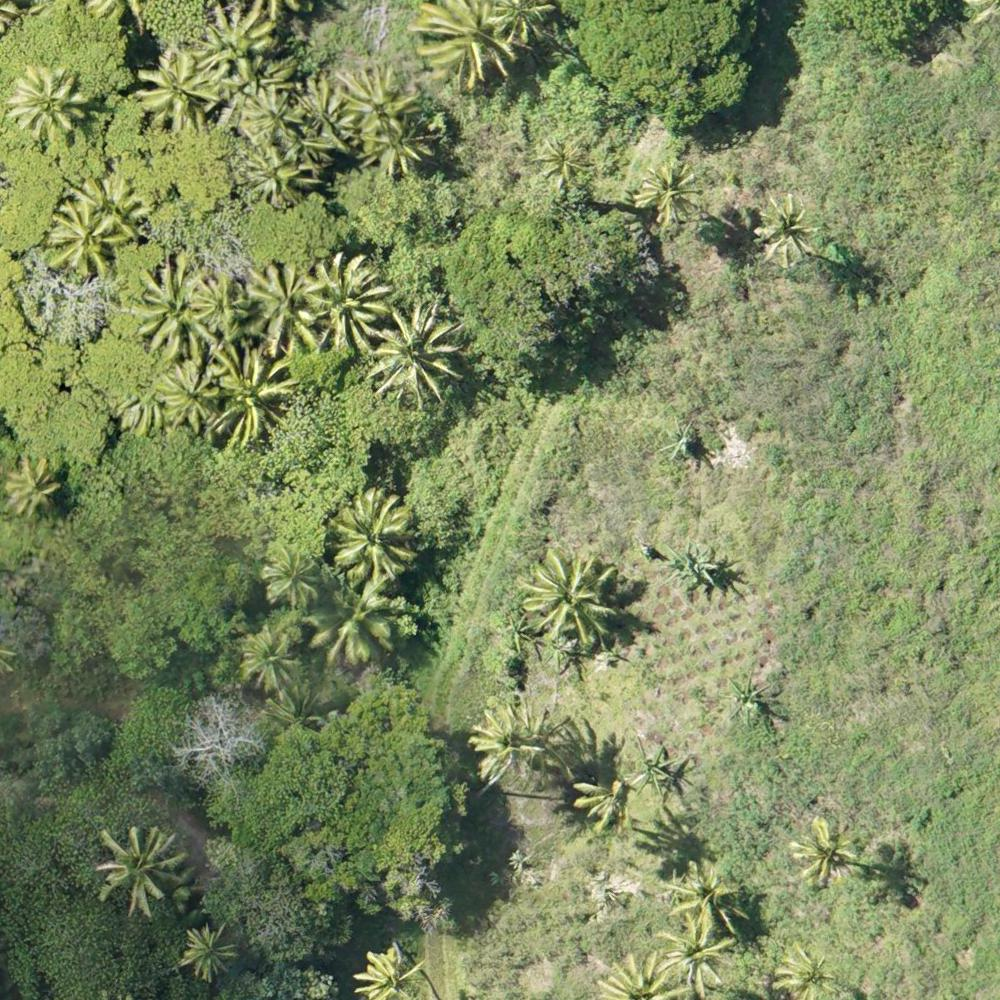Palm: (414, 1, 530, 95), (521, 552, 620, 647), (131, 260, 222, 358), (214, 341, 299, 442), (371, 304, 462, 398), (312, 251, 393, 351), (330, 490, 415, 585), (96, 818, 183, 910), (300, 578, 393, 663), (664, 861, 751, 947), (243, 259, 323, 349), (49, 196, 131, 280), (657, 913, 739, 991), (331, 65, 409, 140), (7, 62, 87, 135), (472, 706, 549, 779), (196, 13, 276, 83), (142, 50, 217, 123), (293, 73, 363, 150), (755, 193, 824, 262), (153, 357, 216, 430), (632, 162, 707, 223), (792, 815, 856, 886), (351, 944, 432, 1000), (573, 773, 638, 841), (243, 143, 313, 205), (242, 625, 302, 691), (1, 455, 65, 515), (237, 83, 304, 140), (180, 925, 246, 981), (772, 942, 838, 997), (262, 546, 318, 610), (534, 133, 593, 189), (195, 276, 254, 330)
